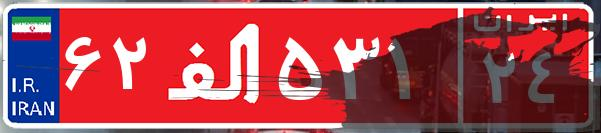1: (385, 28, 445, 110)
2: (475, 38, 525, 113), (110, 28, 158, 105)
3: (330, 28, 385, 110)
4: (525, 38, 570, 115)
5: (273, 28, 330, 110)
6: (57, 26, 110, 107)
الف: (158, 15, 273, 115)
